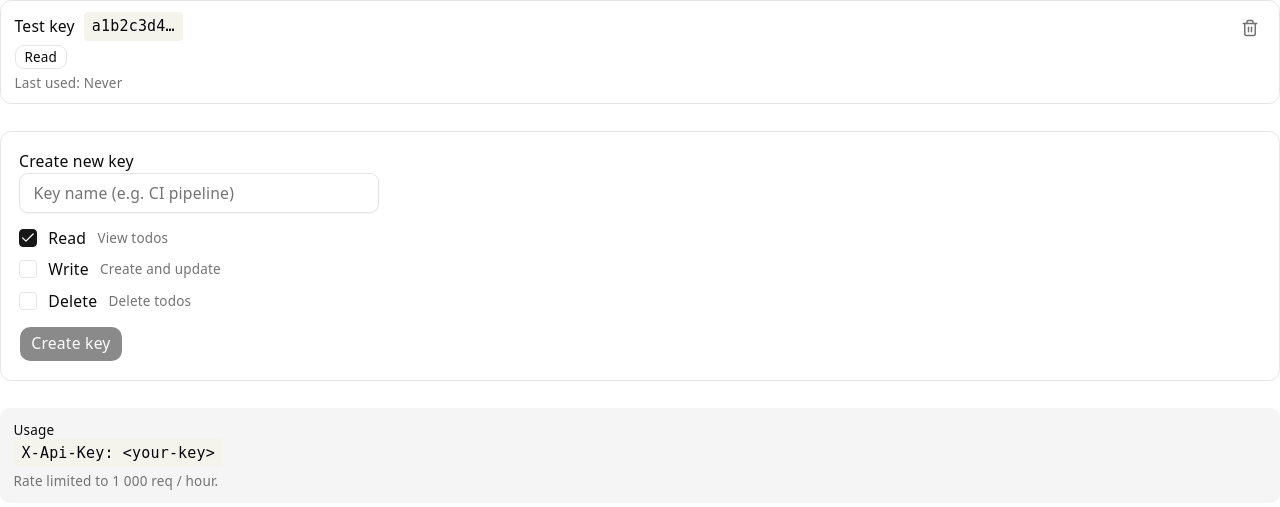
Test: ApiKeysSection › revokes key on confirm click
expect the text "Test key" is shown: met, box top-left (14, 15), bottom-right (75, 38)
What coordinates should you click on to do the following:
click the 1st button
I would click on:
 (1250, 28)
Its box is top-left (1234, 12), bottom-right (1266, 44).
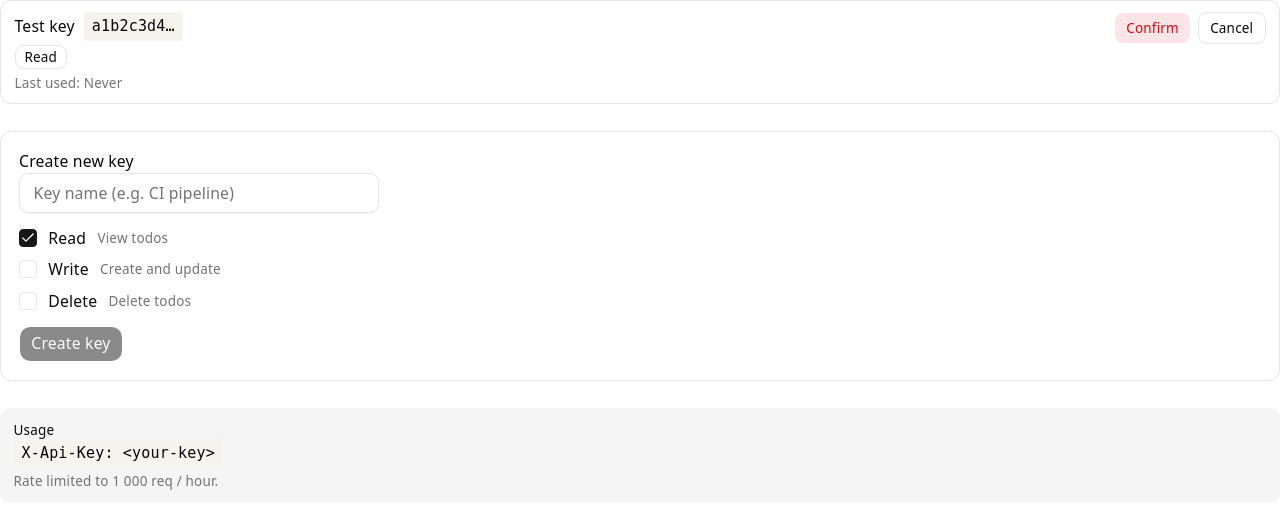
What coordinates should you click on to do the following:
click the button "Confirm"
I would click on:
 (1153, 28)
Its box is top-left (1114, 12), bottom-right (1191, 44).
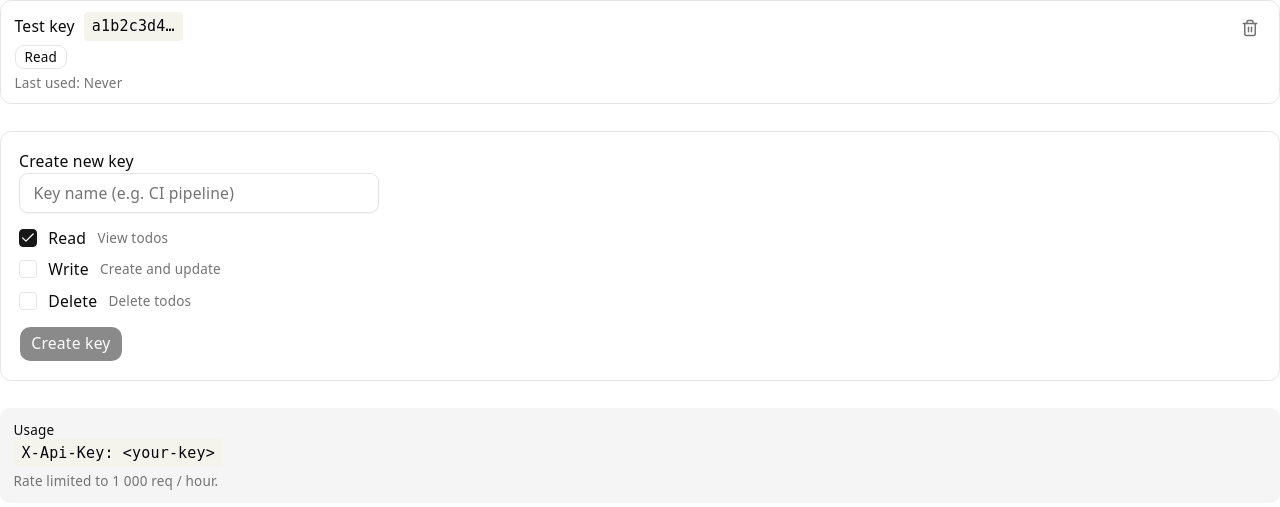
expect the button "Confirm" is gone: met
